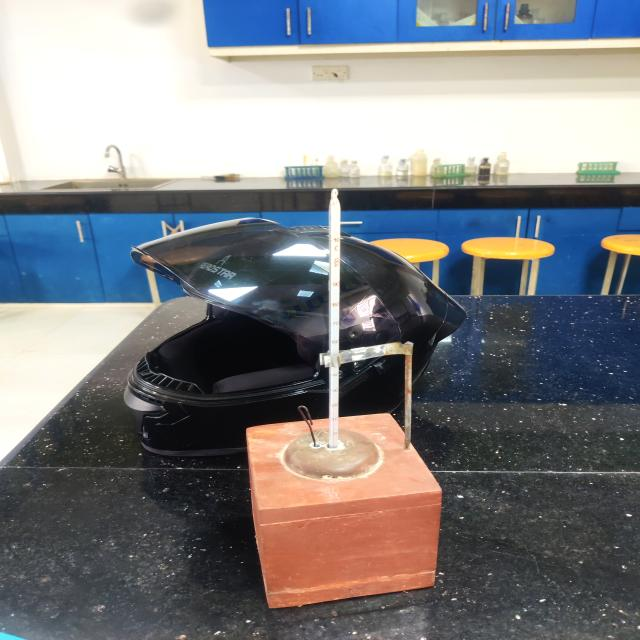Calorimeter: (188, 167, 454, 620)
